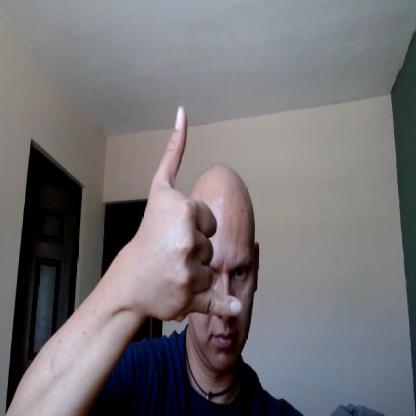Y: (147, 110, 244, 322)
